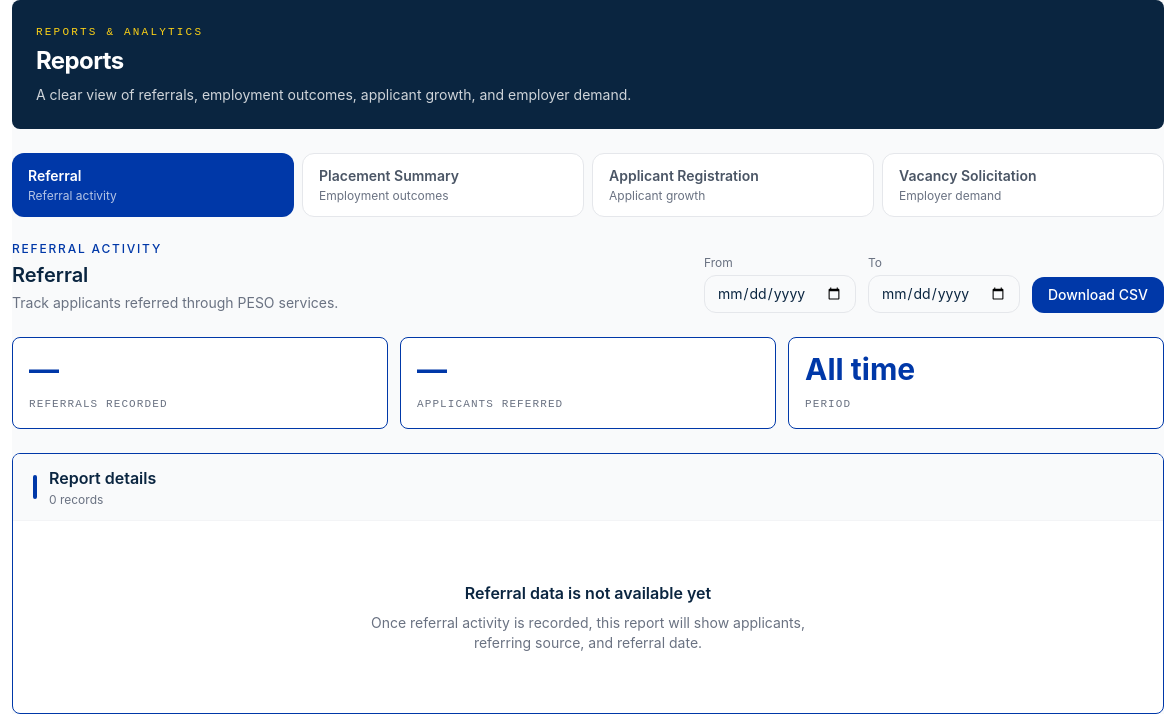
Test: Reports CSV export › shows an empty-state message when there are no placed applicants
Click the text "Placement Summary". click: [389, 175]
box: [319, 166, 459, 184]
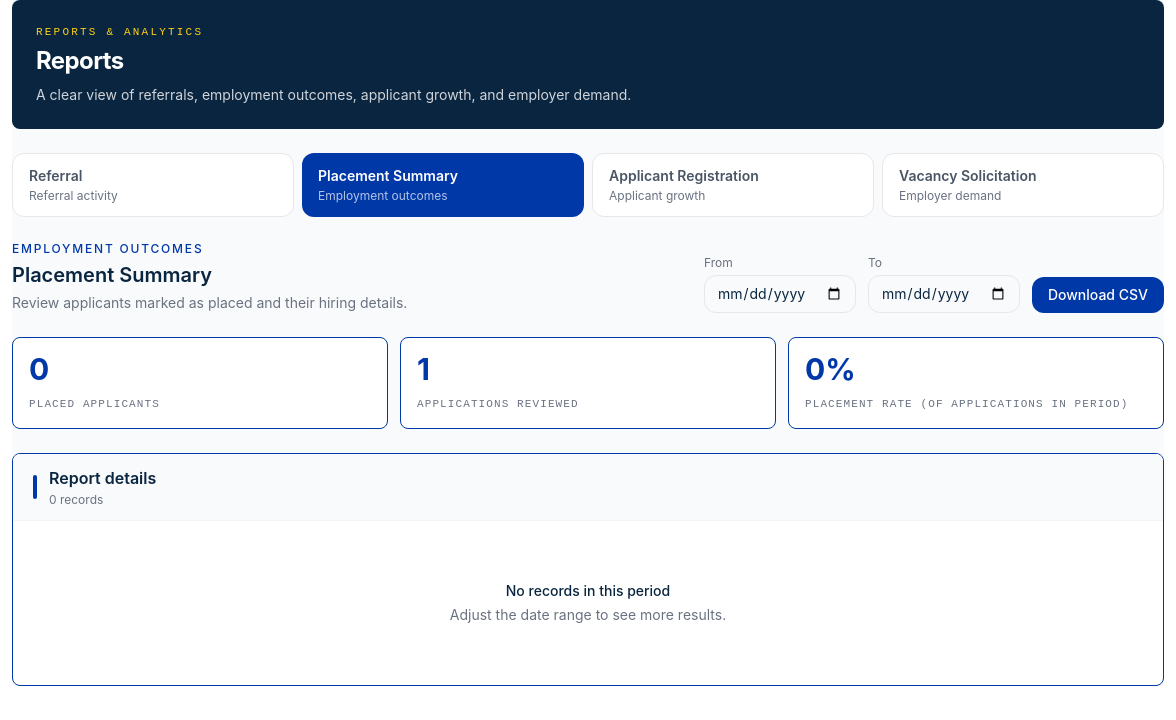
expect the text "No records in this period" is shown: met, box [506, 582, 670, 599]
